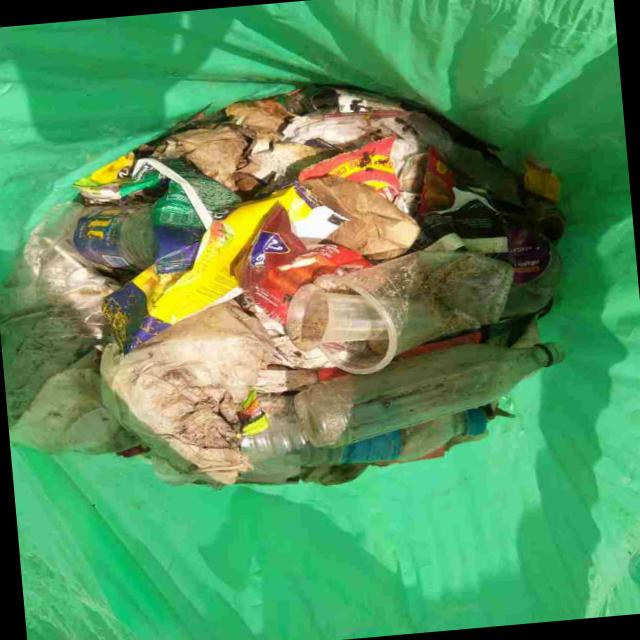chai_nhua: (294, 343, 564, 447), (243, 407, 488, 467)
giay: (301, 174, 420, 258), (171, 124, 247, 189)
giay_goi: (234, 205, 370, 324), (168, 158, 239, 217), (153, 179, 203, 226)
hop_nhua: (286, 250, 512, 373), (72, 204, 155, 270)
ly_hop_giay: (102, 184, 339, 352)
